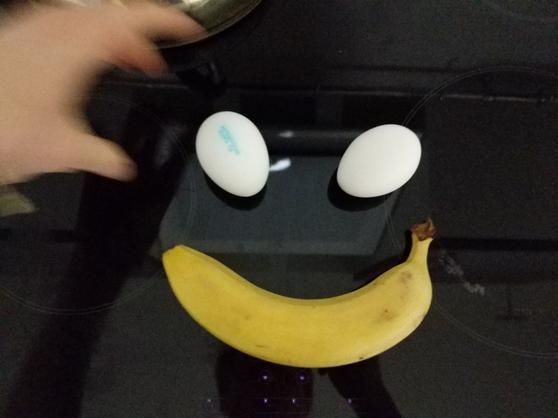banana: (147, 213, 456, 377)
egg: (187, 104, 292, 210), (332, 116, 429, 207)
